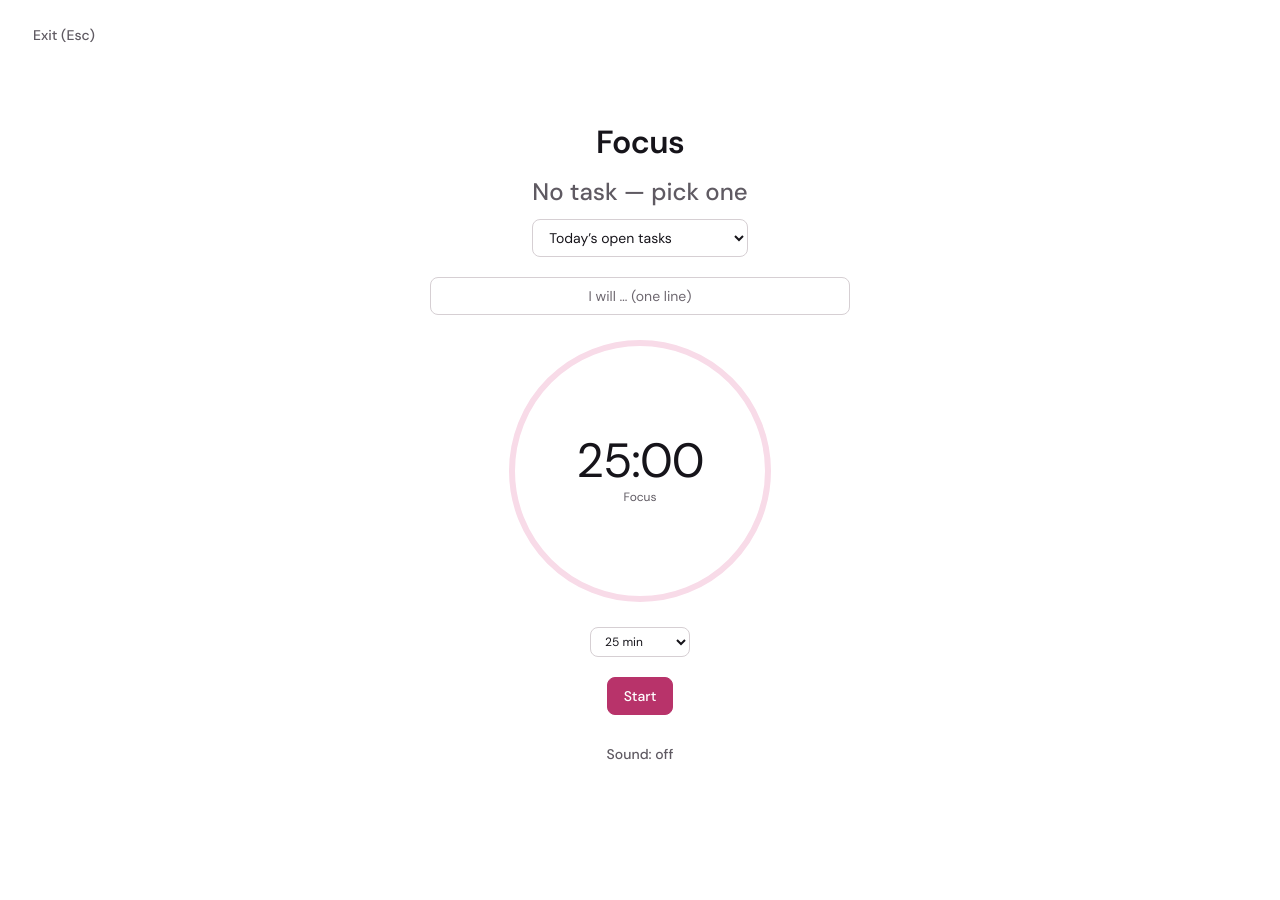
Scenario: Focus mode sound › toggles brown noise and shows nothing when sound is off in settings
Click the button "Sound: off" at (640, 754), box [590, 735, 690, 773]
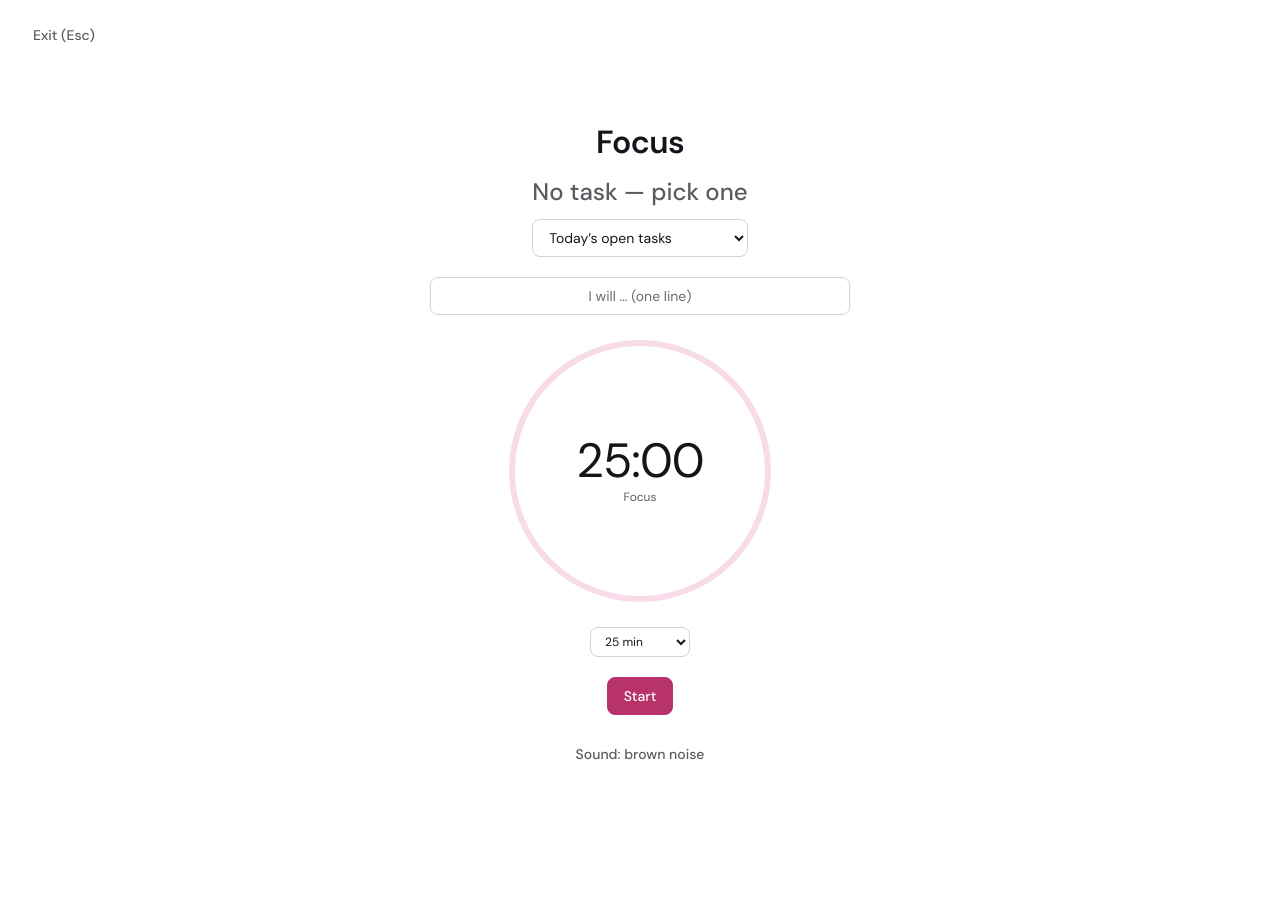
expect the button "Sound: brown noise" is pressed: met
Click the button "Sound: brown noise" at (640, 754), box [559, 735, 721, 773]
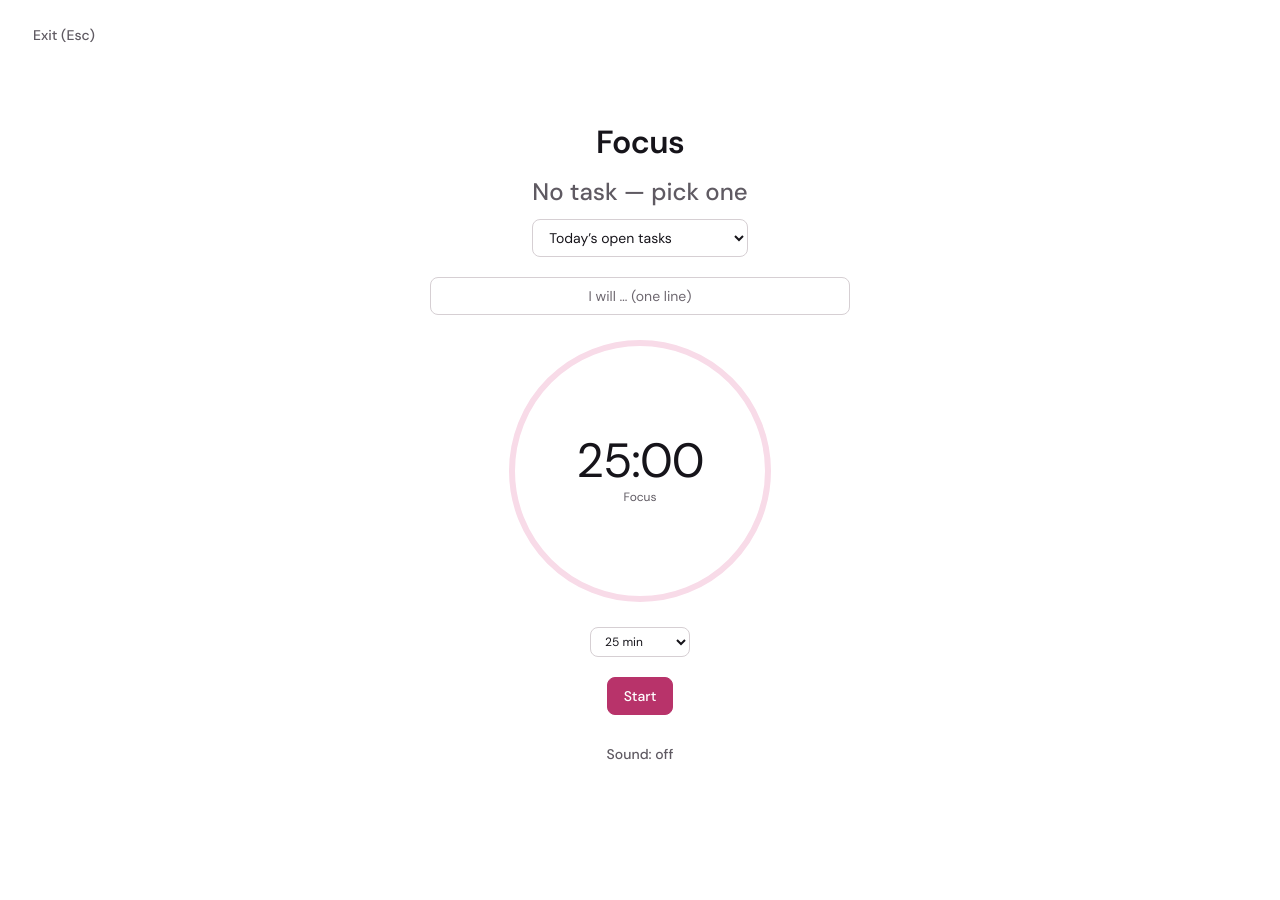
expect the button "Sound: off" is shown: met, box [590, 735, 690, 773]
